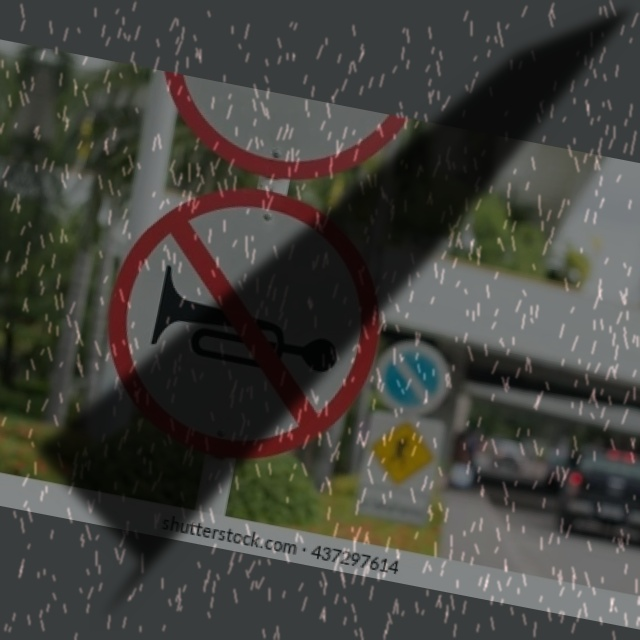Horn_Prohibited: (85, 167, 402, 479)
